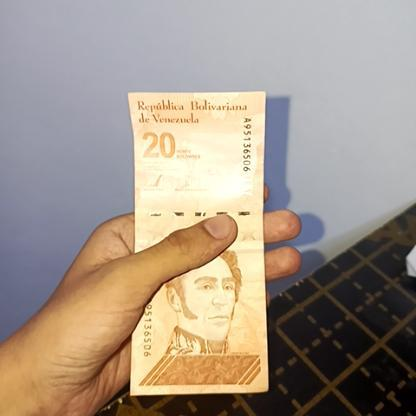twenty-front-vef: (129, 90, 271, 396)
